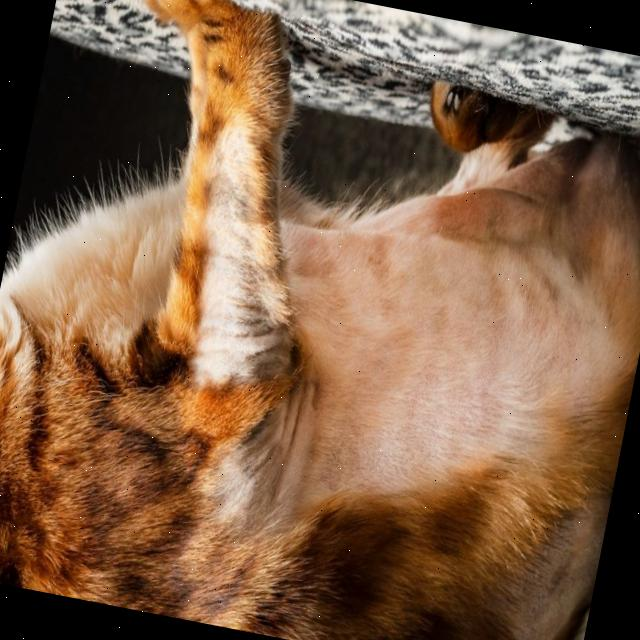cat-hairloss: (309, 227, 566, 458), (324, 425, 424, 492)
